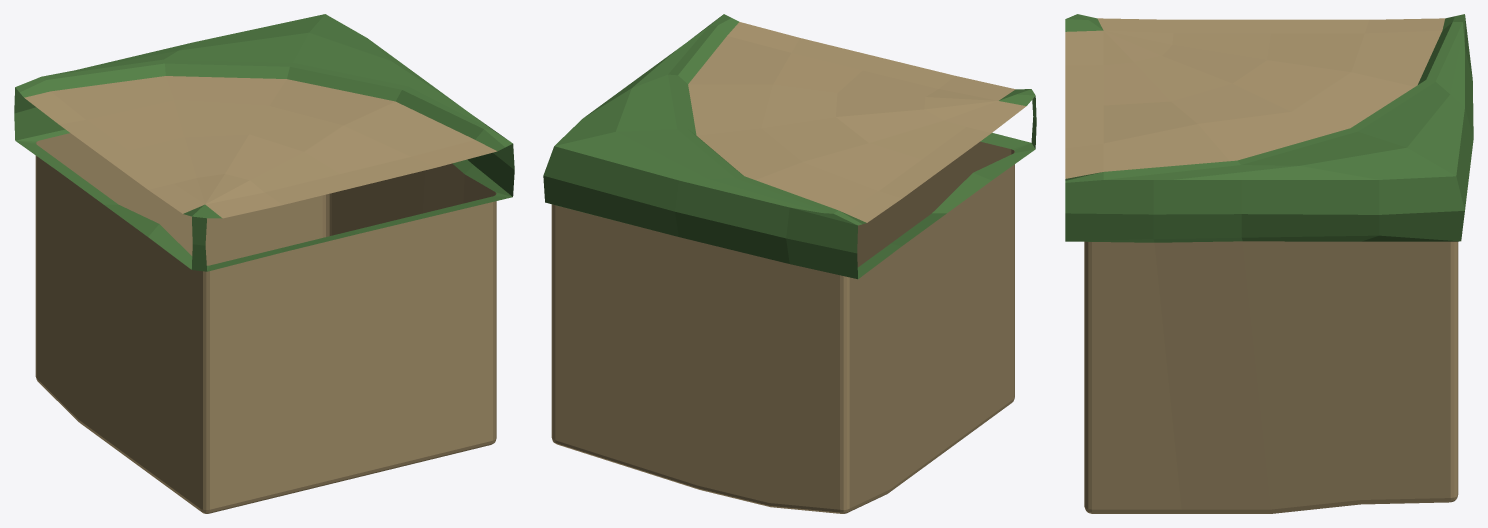
File: env_camino_curva_4x4.fbx
3 renders of one model, left to right at view 1: azimuth 30°, elevation 25°; view 2: azimuth 150°, elevation 25°; view 3: azimuth 270°, elevation 25°, orthographic. The views are drawn at different scales.
Parts seen in each view (by area): view 1: env_suelo_curva; view 2: env_suelo_curva; view 3: env_suelo_curva.
Part boxes in pixels (x1=…): env_suelo_curva: x1=14, y1=14, x2=514, y2=513; env_suelo_curva: x1=543, y1=14, x2=1036, y2=513; env_suelo_curva: x1=1065, y1=14, x2=1473, y2=513.
Size of the model in its own units: 7.89 by 7.41 by 7.93.
